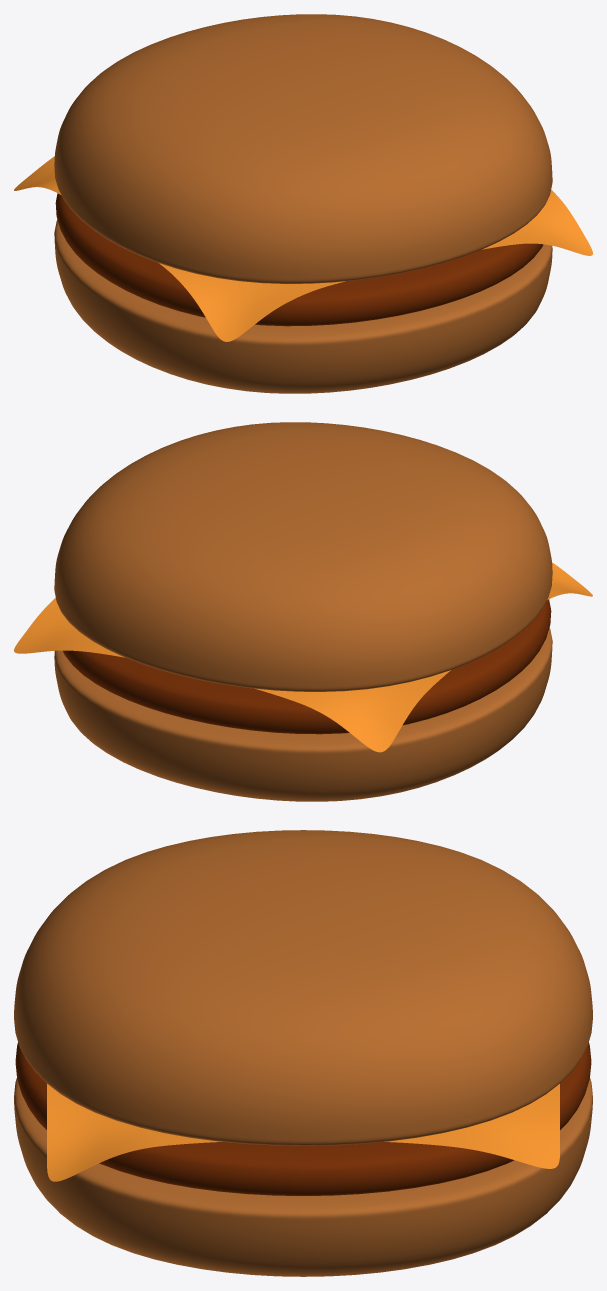
Rendered from burger-merged.glb.
The picture shows the model from 3 angles, top to bottom: view 1: azimuth 30°, elevation 25°; view 2: azimuth 150°, elevation 25°; view 3: azimuth 270°, elevation 25°; orthographic projection. The views are drawn at different scales.
Parts seen in each view (by area): view 1: Cube.002; view 2: Cube.002; view 3: Cube.002.
Boxes of the visible parts, <box> form: Cube.002: <box>14,14,592,393</box>; Cube.002: <box>14,422,592,801</box>; Cube.002: <box>14,830,592,1276</box>.
Bounding box in the file's own units: 9.05 × 5.09 × 9.05.
